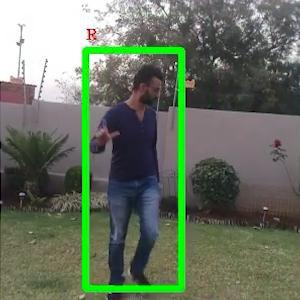land_hand: (91, 113, 120, 148)
